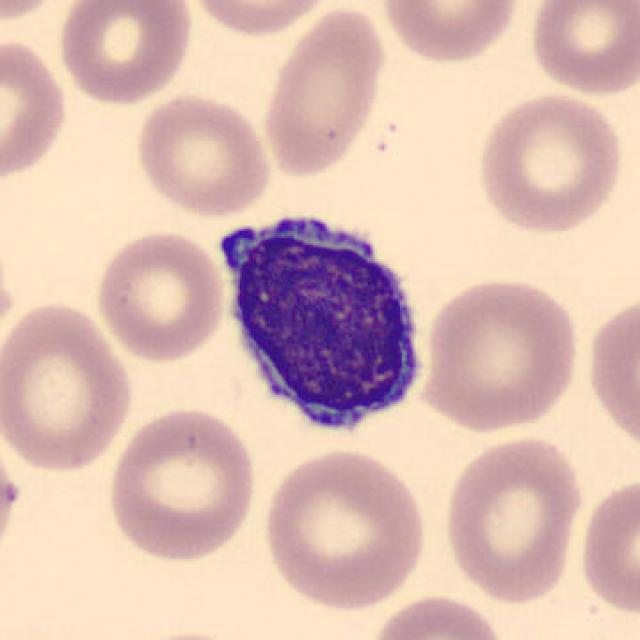Lymphocyte: (208, 198, 437, 446)
RBC: (258, 446, 432, 614), (414, 274, 583, 436), (439, 430, 587, 607), (103, 402, 261, 564), (0, 296, 137, 474), (258, 2, 389, 180), (473, 88, 627, 236), (91, 227, 229, 365), (132, 88, 276, 219), (54, 0, 195, 108), (524, 0, 638, 99), (0, 32, 71, 185), (574, 470, 640, 620), (378, 0, 522, 67), (583, 289, 638, 457), (362, 590, 510, 640), (185, 0, 338, 39), (0, 432, 25, 571), (0, 0, 69, 26)
